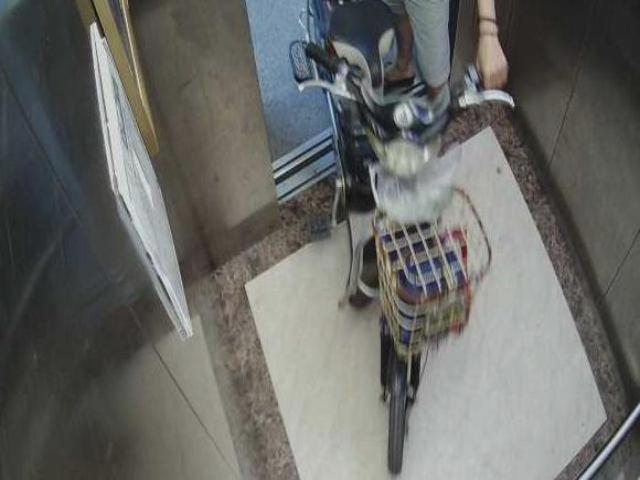emotor: (289, 6, 501, 471)
